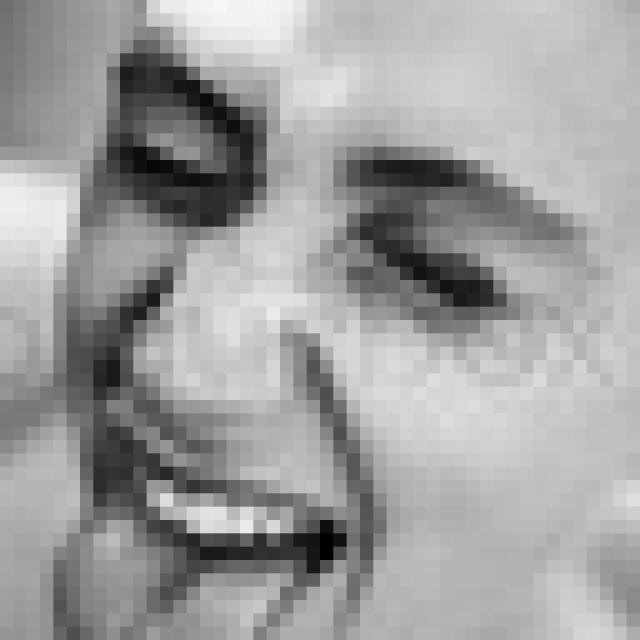disgust: (57, 51, 517, 640)
